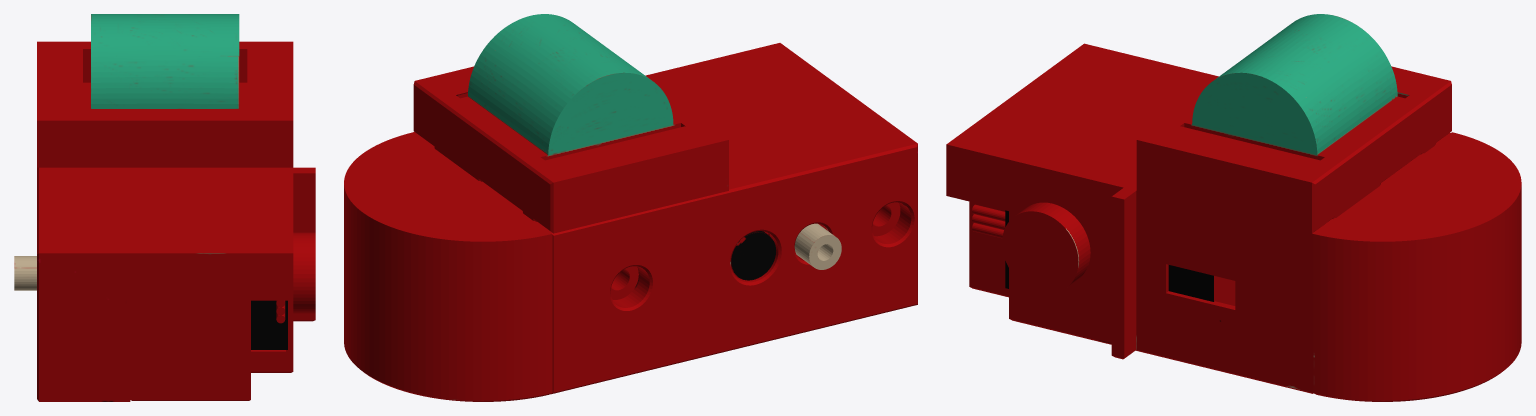
Rendered from finger_link331.dae.
The picture shows the model from 3 angles, left to right: view 1: azimuth 30°, elevation 25°; view 2: azimuth 150°, elevation 25°; view 3: azimuth 270°, elevation 25°; orthographic projection. The views are drawn at different scales.
Visible parts, largest first — view 1: finger_link331; view 2: finger_link331; view 3: finger_link331.
Part boxes in pixels (x1,y1,x2,y2): finger_link331: (14,14,315,401); finger_link331: (344,14,917,401); finger_link331: (946,14,1521,401).
Size of the model in its own units: 58.48 by 71.59 by 38.15.
1 material, 1 textured.
